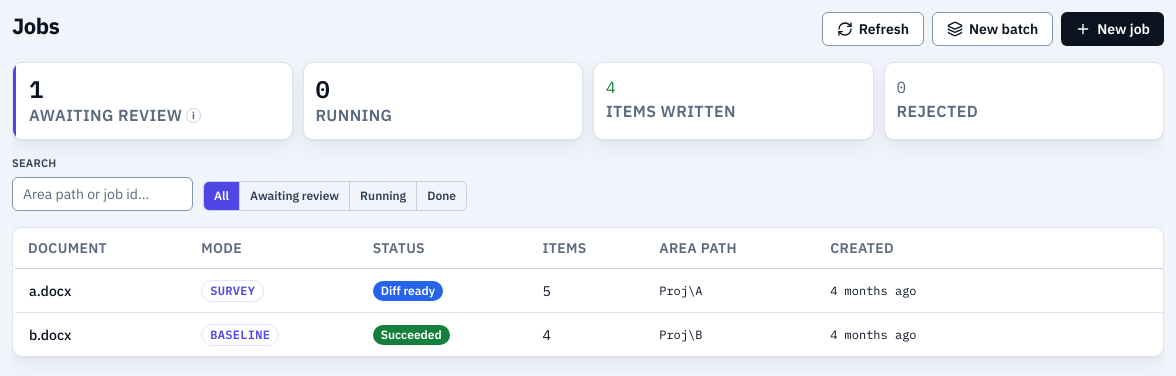
Test case: JobsList › filters to Awaiting review via the curated status filter, not the raw enum
This screenshot has width=1176, height=376.
Expected: the text "a.docx" is shown, 29,280 -> 71,300
Expected: the text "b.docx" is shown, 29,324 -> 72,344
Click the button "Awaiting review": click(294, 196) 239,182 -> 349,210
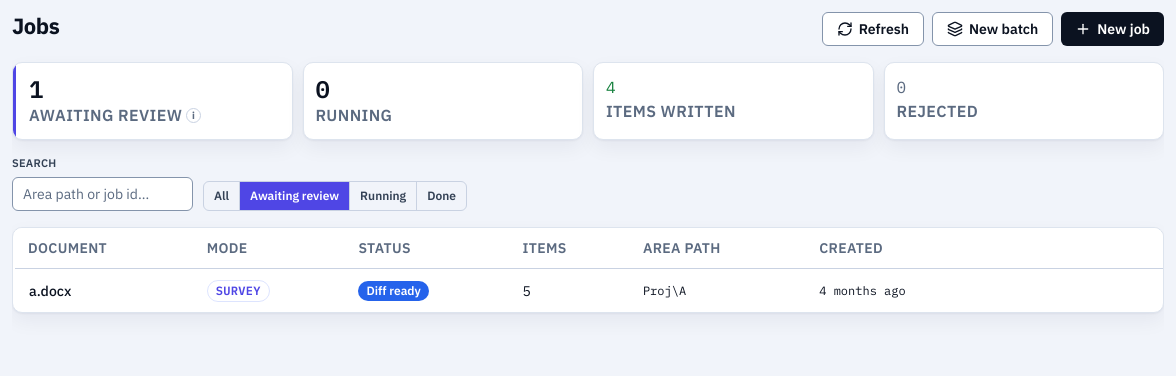
Expected: the text "a.docx" is shown, 29,280 -> 71,300
Result: the link "b.docx" is gone
